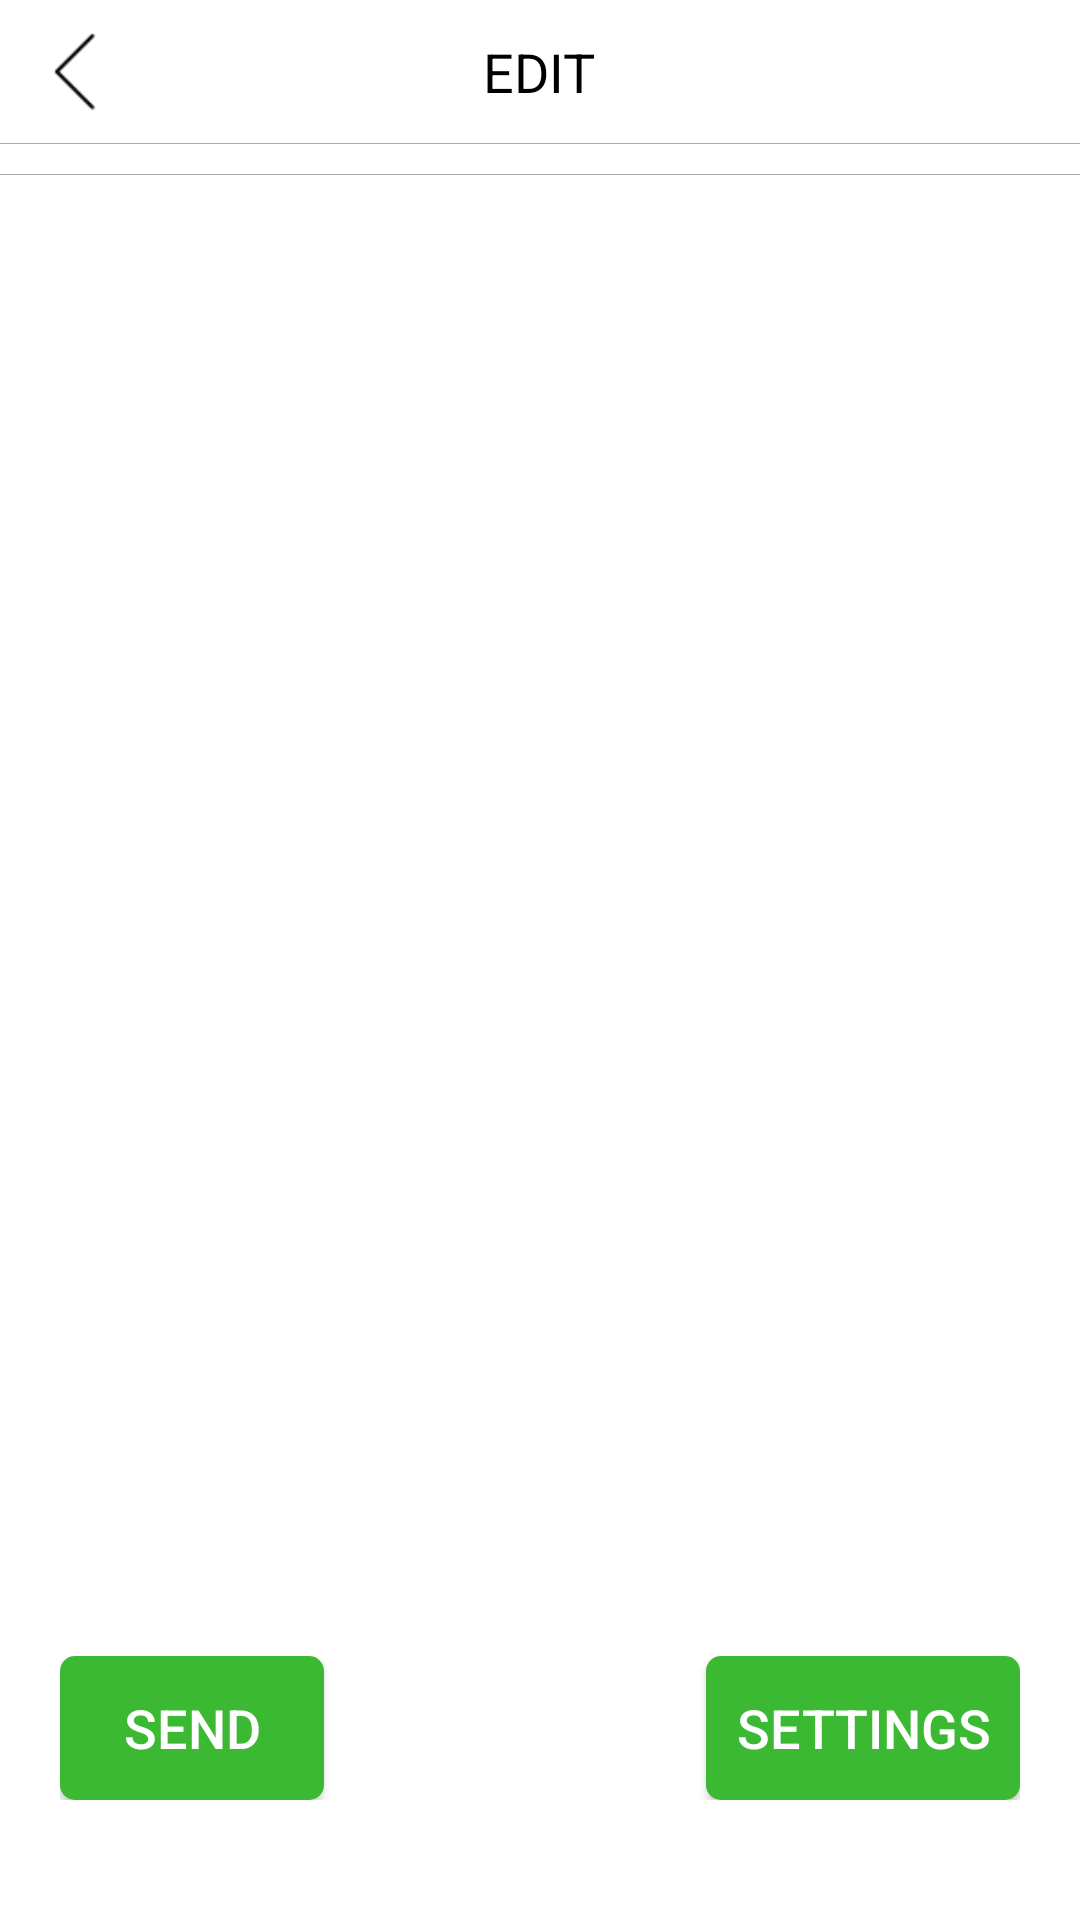

Icon click points for this 1080 x 1920 phone screenshot, format point (x, y):
back: point (74, 71)
